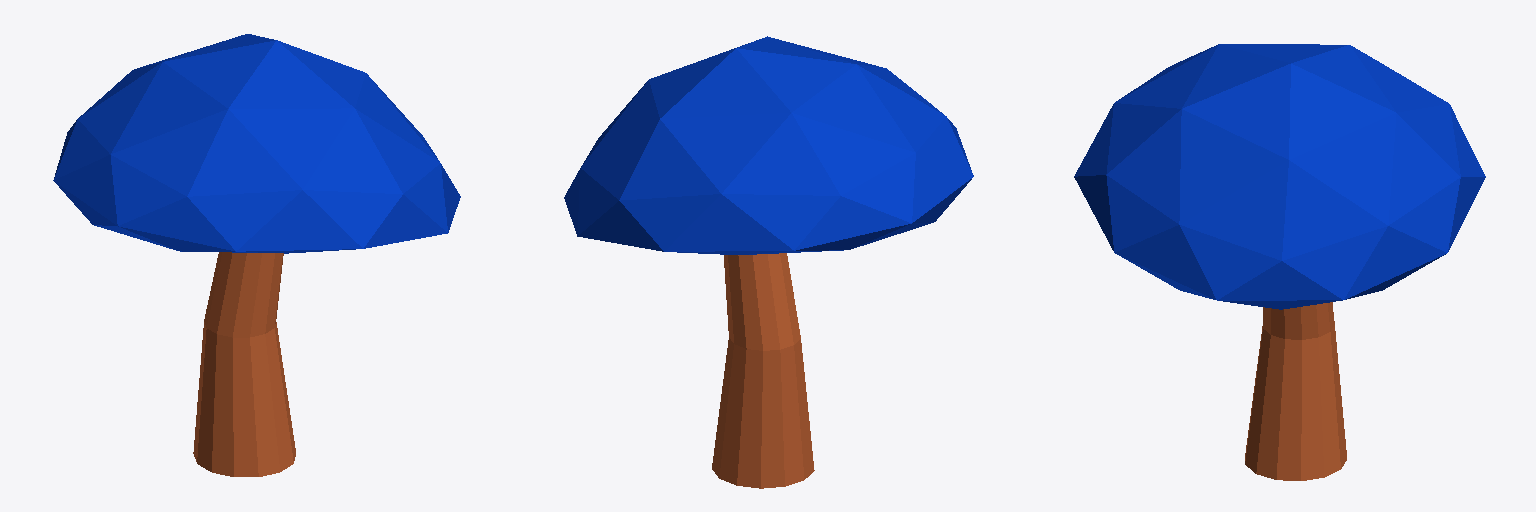
The model's file is mushroom.obj.
3 renders of one model, left to right at view 1: azimuth 30°, elevation 25°; view 2: azimuth 150°, elevation 25°; view 3: azimuth 270°, elevation 25°, orthographic.
Parts seen in each view (by area): view 1: Mushroomstump_Cylinder; view 2: Mushroomstump_Cylinder; view 3: Mushroomstump_Cylinder.
Boxes of the visible parts, x1=… form: Mushroomstump_Cylinder: x1=53, y1=34, x2=460, y2=476; Mushroomstump_Cylinder: x1=564, y1=36, x2=973, y2=488; Mushroomstump_Cylinder: x1=1074, y1=44, x2=1485, y2=480.
Bounding box in the file's own units: 0.3211 × 0.3635 × 0.3304.